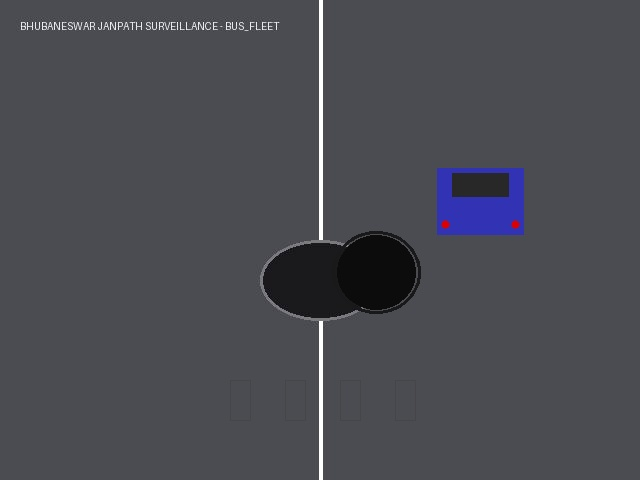no_zebracrossing: (195, 370, 445, 430)
pothole: (337, 235, 415, 309)
vehicle: (437, 168, 523, 234)
